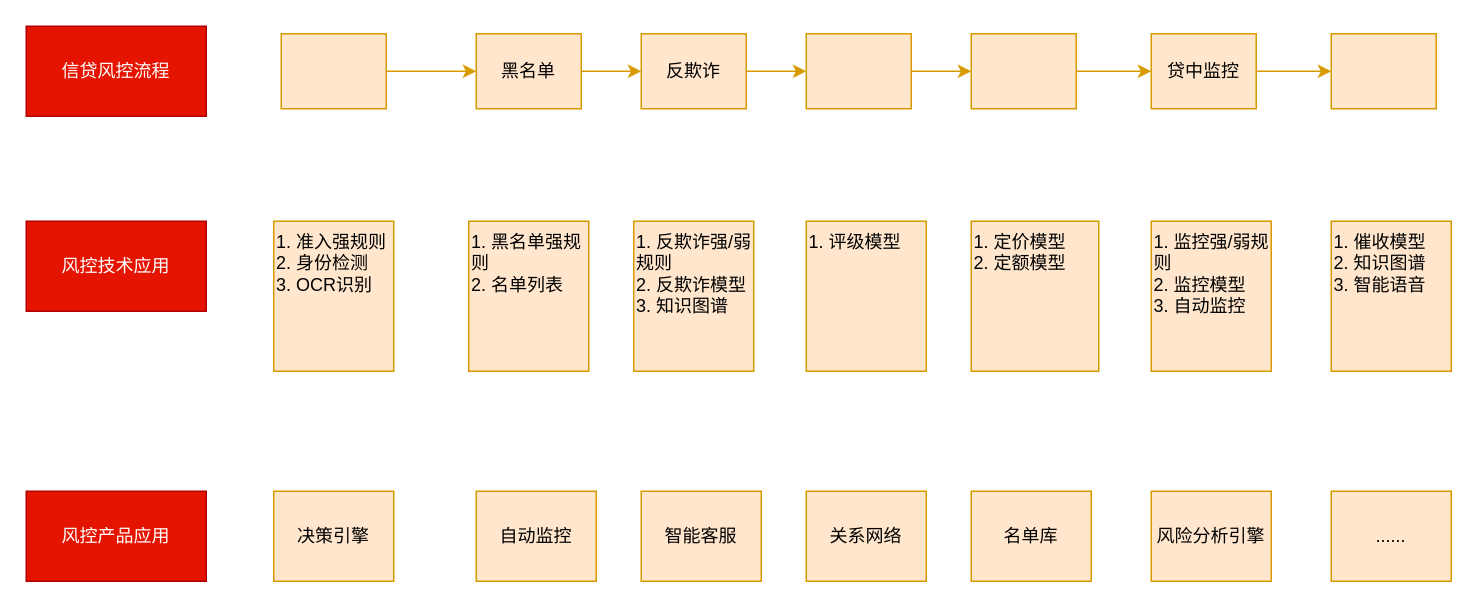
This 1478x608 diagram has some shape labels left out. Here are the shapes that lost their labels. From the top down, the centre of each, then its label:
At pixel 333 70: "准入".
At pixel 858 70: "信用评级".
At pixel 1023 70: "定额定价".
At pixel 1383 70: "贷后催收".
